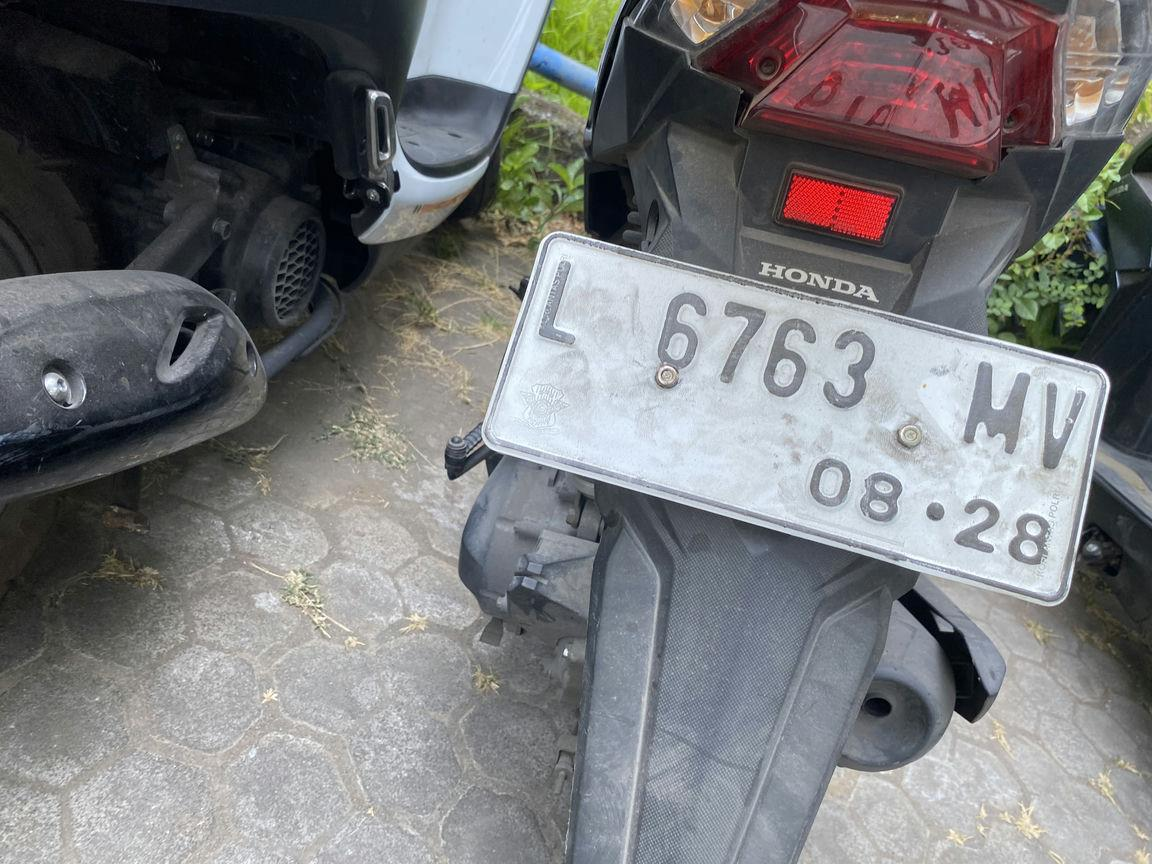plat: (482, 234, 1109, 605)
